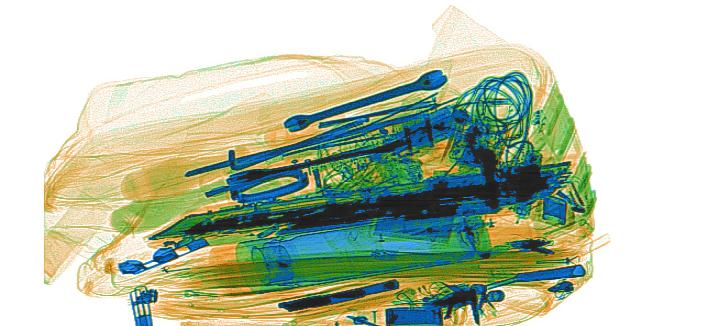battery: (512, 147, 543, 216)
